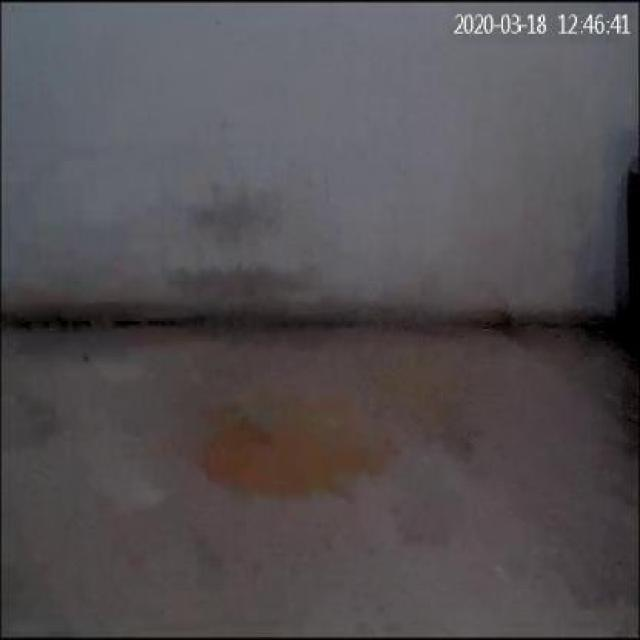spill: (184, 395, 396, 503)
